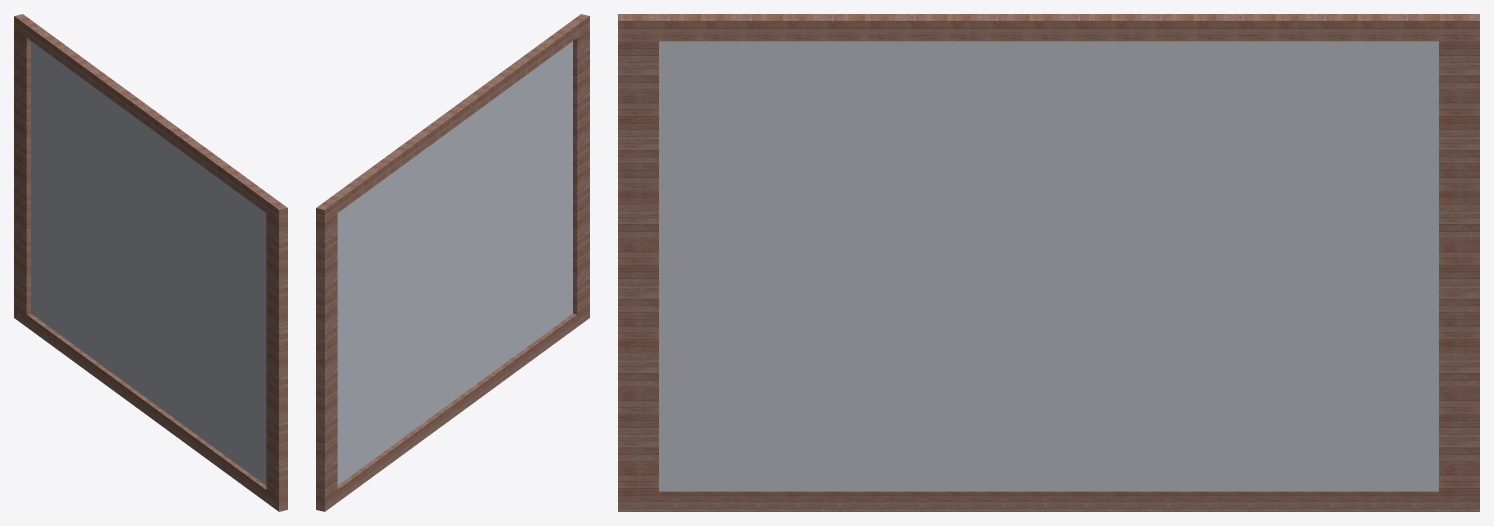
The model's file is LandscapePaintingFrame.fbx.
3 views of the same model, side by side, from view 1: azimuth 30°, elevation 25°; view 2: azimuth 150°, elevation 25°; view 3: azimuth 270°, elevation 25° (orthographic). The views are drawn at different scales.
Visible parts, largest first — view 1: block (×5); view 2: block (×5); view 3: block (×5).
Boxes of the visible parts, left/top/right/bottom form: block (×5): left=14, top=14, right=287, bottom=511; block (×5): left=316, top=14, right=589, bottom=511; block (×5): left=618, top=14, right=1479, bottom=511.
Bounding box in the file's own units: 2 × 66 × 105.
Materials: 2 (1 with a texture image).
